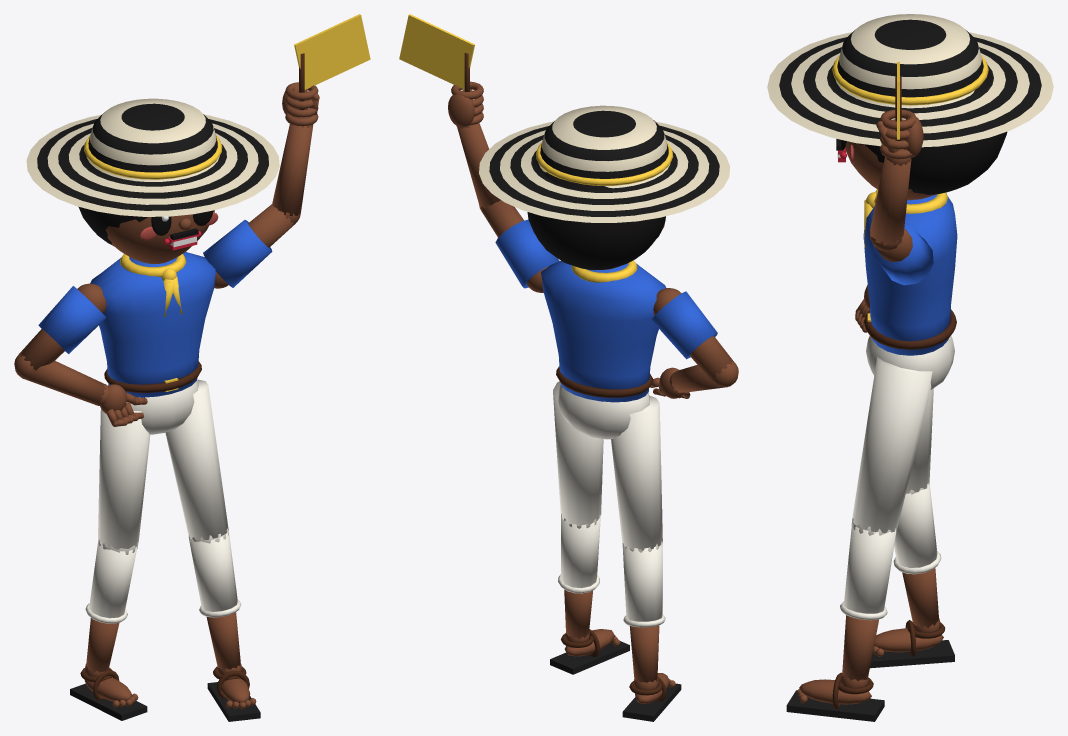
Rendered from bailarin-blanco-azul-camisa.glb.
3 views of the same model, side by side, from view 1: azimuth 30°, elevation 25°; view 2: azimuth 150°, elevation 25°; view 3: azimuth 270°, elevation 25° (orthographic). The views are drawn at different scales.
Parts seen in each view (by area): view 1: Sombrero_Vueltiao, Torso_Camisa, Muslo_Der, Muslo_Izq, Panuelo_Ondeando, Pantorrilla_Pantalon_Der, Pantorrilla_Pantalon_Izq, Manga_Der, Cabeza, Brazo_Der_Inf, Manga_Izq, Pelvis_Pantalon (+13 smaller); view 2: Sombrero_Vueltiao, Torso_Camisa, Muslo_Izq, Cabello, Muslo_Der, Panuelo_Ondeando, Pantorrilla_Pantalon_Izq, Pelvis_Pantalon, Pantorrilla_Pantalon_Der, Manga_Izq, Manga_Der, Pantorrilla_Izq (+12 smaller); view 3: Sombrero_Vueltiao, Muslo_Der, Torso_Camisa, Cabello, Pantorrilla_Pantalon_Der, Pantorrilla_Pantalon_Izq, Brazo_Der_Inf, Pelvis_Pantalon, Pantorrilla_Der, Manga_Der, Pantorrilla_Izq, Suela (+11 smaller).
Boxes of the visible parts, x1,y1,x2,y2 form: Sombrero_Vueltiao: (26, 98, 279, 216); Torso_Camisa: (90, 252, 215, 397); Muslo_Der: (165, 379, 228, 540); Muslo_Izq: (98, 409, 150, 549); Panuelo_Ondeando: (294, 14, 370, 89); Pantorrilla_Pantalon_Der: (188, 530, 237, 611); Pantorrilla_Pantalon_Izq: (89, 540, 137, 618); Manga_Der: (203, 220, 272, 287); Cabeza: (105, 210, 214, 264); Brazo_Der_Inf: (272, 124, 312, 215); Manga_Izq: (38, 286, 106, 353); Pelvis_Pantalon: (126, 379, 198, 434); Sombrero_Vueltiao: (479, 105, 730, 222); Torso_Camisa: (541, 261, 666, 402); Muslo_Izq: (611, 395, 662, 550); Cabello: (527, 171, 665, 269); Muslo_Der: (553, 381, 603, 525); Panuelo_Ondeando: (399, 14, 474, 89); Pantorrilla_Pantalon_Izq: (622, 543, 662, 621); Pelvis_Pantalon: (558, 384, 649, 439); Pantorrilla_Pantalon_Der: (561, 516, 600, 588); Manga_Izq: (651, 291, 717, 359); Manga_Der: (495, 219, 559, 288); Pantorrilla_Izq: (629, 625, 659, 682); Sombrero_Vueltiao: (767, 14, 1053, 147); Muslo_Der: (852, 357, 932, 533); Torso_Camisa: (863, 197, 957, 355); Cabello: (859, 69, 1007, 194); Pantorrilla_Pantalon_Der: (844, 522, 896, 613); Pantorrilla_Pantalon_Izq: (894, 483, 937, 567); Brazo_Der_Inf: (870, 156, 911, 245); Pelvis_Pantalon: (866, 335, 954, 389); Pantorrilla_Der: (842, 615, 878, 681); Manga_Der: (872, 224, 933, 285); Pantorrilla_Izq: (902, 568, 938, 628); Suela: (786, 690, 884, 721).
Size of the model in its own units: 1.14 by 1.98 by 0.72.
